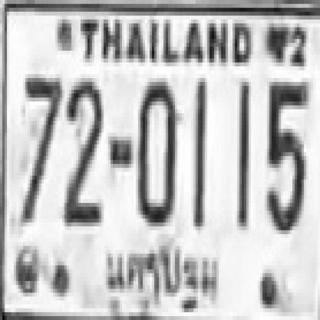N00: (136, 78, 175, 222)
N01: (235, 78, 249, 226), (191, 78, 205, 226)
N02: (62, 74, 101, 222)
N05: (265, 78, 306, 230)
N07: (20, 74, 61, 222)
P28: (103, 237, 221, 315)
